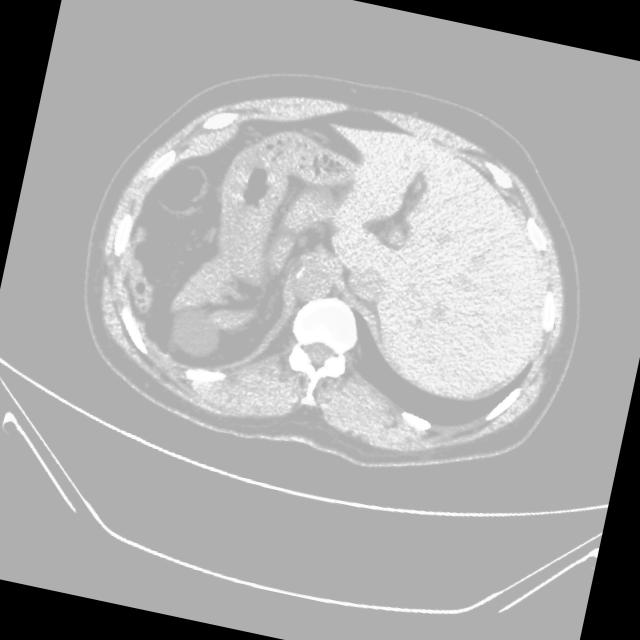cysts: (55, 38, 619, 506)
